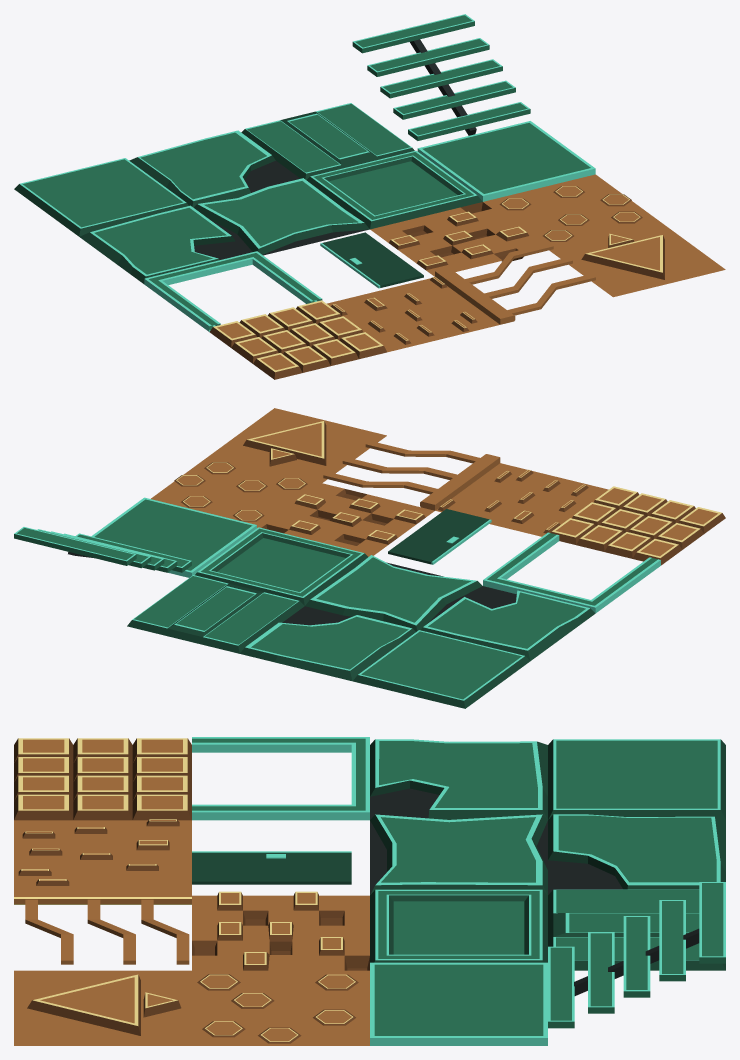
The model's file is Tiles1.fbx.
3 renders of one model, top to bottom at view 1: azimuth 30°, elevation 25°; view 2: azimuth 150°, elevation 25°; view 3: azimuth 270°, elevation 25°, orthographic. The views are drawn at different scales.
Visible parts, largest first — view 1: C1S, C1T1.006, C1W1.002, C1T1.003, C1T1.001, C1T1.004, C1T1.002, C1T1.005, C1W1.001, C1W1.005, C1T1, C1W1.003 (+4 smaller); view 2: C1T1.004, C1W1.002, C1T1.002, C1T1.005, C1T1.003, C1T1, C1T1.001, C1W1.005, C1W1, C1W1.003, C1W1.001, C1T1.006 (+4 smaller); view 3: C1T1.006, C1W1.002, C1T1.004, C1W1, C1T1, C1W1.001, C1W1.005, C1T1.003, C1T1.001, C1T1.005, C1W1.003, C1S (+4 smaller).
Part boxes in pixels (left/top/right/bottom): C1S: left=352, top=14, right=530, bottom=140; C1T1.006: left=417, top=121, right=595, bottom=201; C1W1.002: left=209, top=300, right=386, bottom=379; C1T1.003: left=306, top=150, right=482, bottom=229; C1T1.001: left=193, top=178, right=369, bottom=255; C1T1.004: left=14, top=158, right=188, bottom=236; C1T1.002: left=241, top=103, right=414, bottom=179; C1T1.005: left=129, top=130, right=300, bottom=207; C1W1.001: left=483, top=174, right=660, bottom=247; C1W1.005: left=549, top=222, right=725, bottom=297; C1T1: left=79, top=205, right=250, bottom=283; C1W1.003: left=327, top=276, right=499, bottom=352; C1T1.004: left=353, top=630, right=530, bottom=708; C1W1.002: left=551, top=486, right=725, bottom=565; C1T1.002: left=127, top=575, right=304, bottom=653; C1T1.005: left=240, top=606, right=415, bottom=681; C1T1.003: left=195, top=527, right=367, bottom=605; C1T1: left=421, top=586, right=595, bottom=660; C1T1.001: left=305, top=555, right=482, bottom=631; C1W1.005: left=210, top=408, right=386, bottom=482; C1W1: left=261, top=483, right=434, bottom=556; C1W1.003: left=435, top=463, right=608, bottom=536; C1W1.001: left=151, top=455, right=321, bottom=527; C1T1.006: left=91, top=497, right=256, bottom=577; C1T1.006: left=370, top=962, right=547, bottom=1045; C1W1.002: left=14, top=738, right=191, bottom=820; C1T1.004: left=548, top=739, right=725, bottom=819; C1W1: left=192, top=891, right=369, bottom=970; C1T1: left=370, top=739, right=547, bottom=819; C1W1.001: left=192, top=970, right=369, bottom=1045; C1W1.005: left=14, top=970, right=191, bottom=1045; C1T1.003: left=370, top=889, right=547, bottom=962; C1T1.001: left=370, top=814, right=547, bottom=894; C1T1.005: left=548, top=814, right=725, bottom=894; C1W1.003: left=14, top=819, right=191, bottom=887; C1S: left=548, top=882, right=725, bottom=1028.
Bounding box in the file's own units: 8 × 1.24 × 8.
